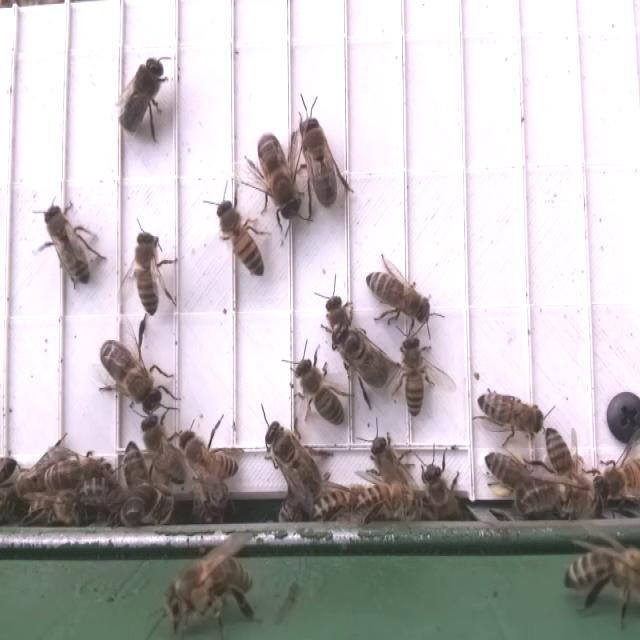Drone: (260, 416, 326, 504), (98, 335, 166, 418), (114, 53, 177, 138), (255, 130, 305, 223), (329, 321, 392, 394), (298, 113, 343, 211)
Worker: (361, 262, 434, 328), (40, 201, 93, 288), (292, 354, 350, 431), (179, 426, 244, 492), (216, 197, 267, 281), (136, 406, 186, 486), (474, 387, 543, 441), (132, 226, 167, 320), (481, 448, 542, 497), (544, 424, 584, 496), (38, 456, 110, 494), (351, 479, 417, 520), (400, 334, 430, 416)
